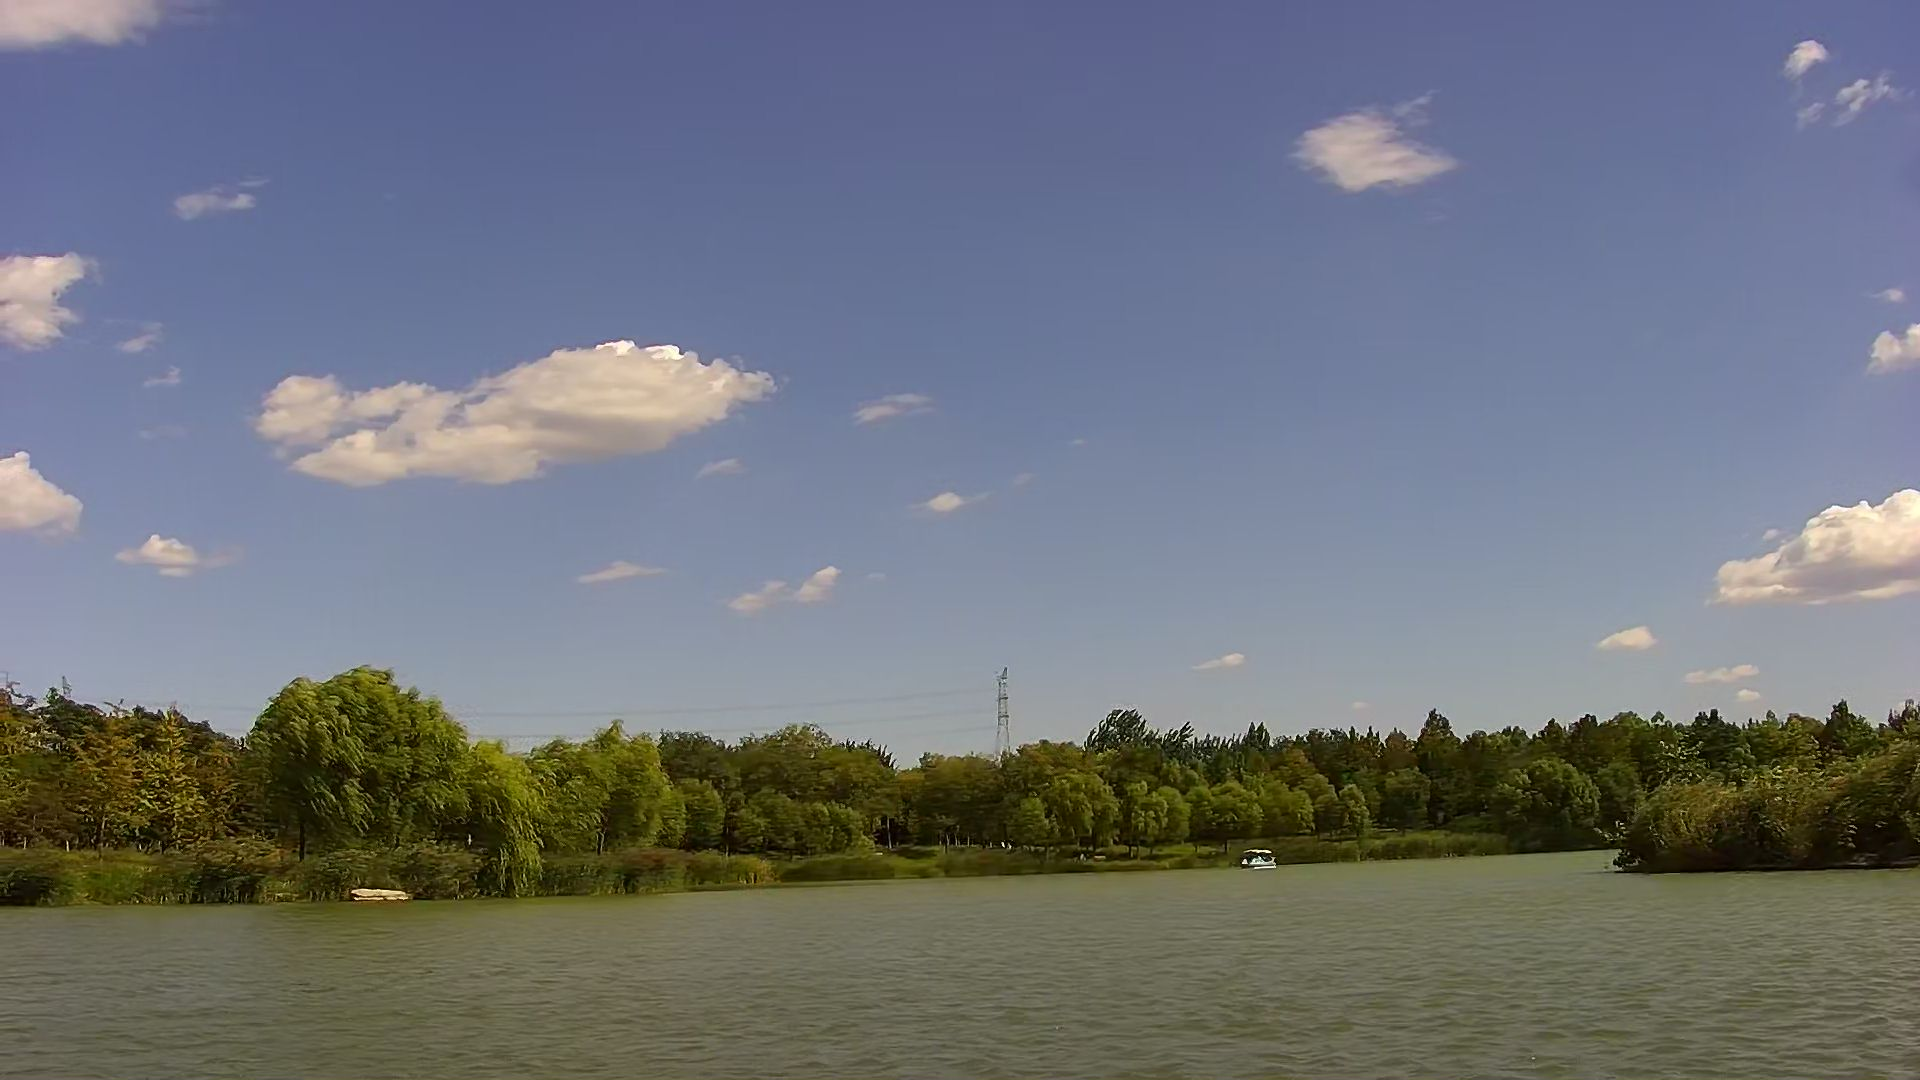boat: (1237, 847, 1283, 872)
